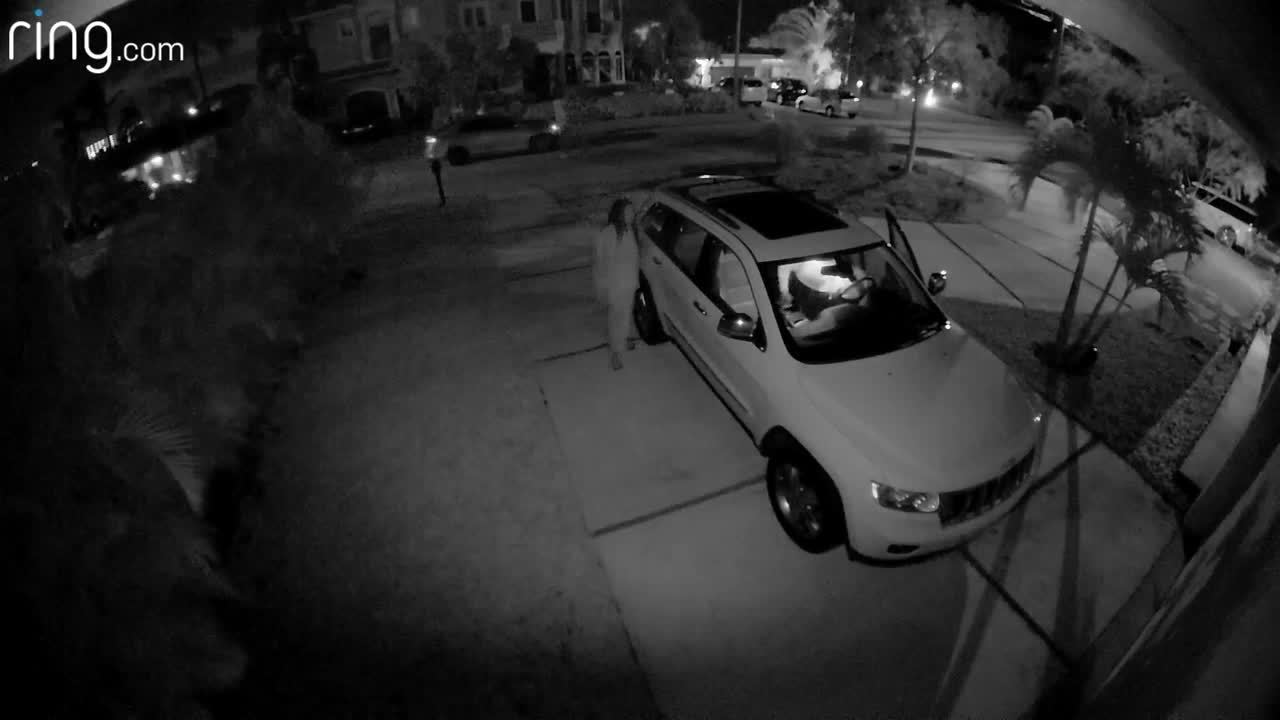person: (588, 166, 658, 403)
